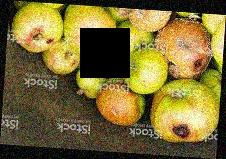rotten apple: (144, 82, 219, 145), (158, 22, 214, 81), (7, 4, 64, 55), (95, 83, 149, 125), (38, 43, 80, 76), (126, 9, 166, 32)
